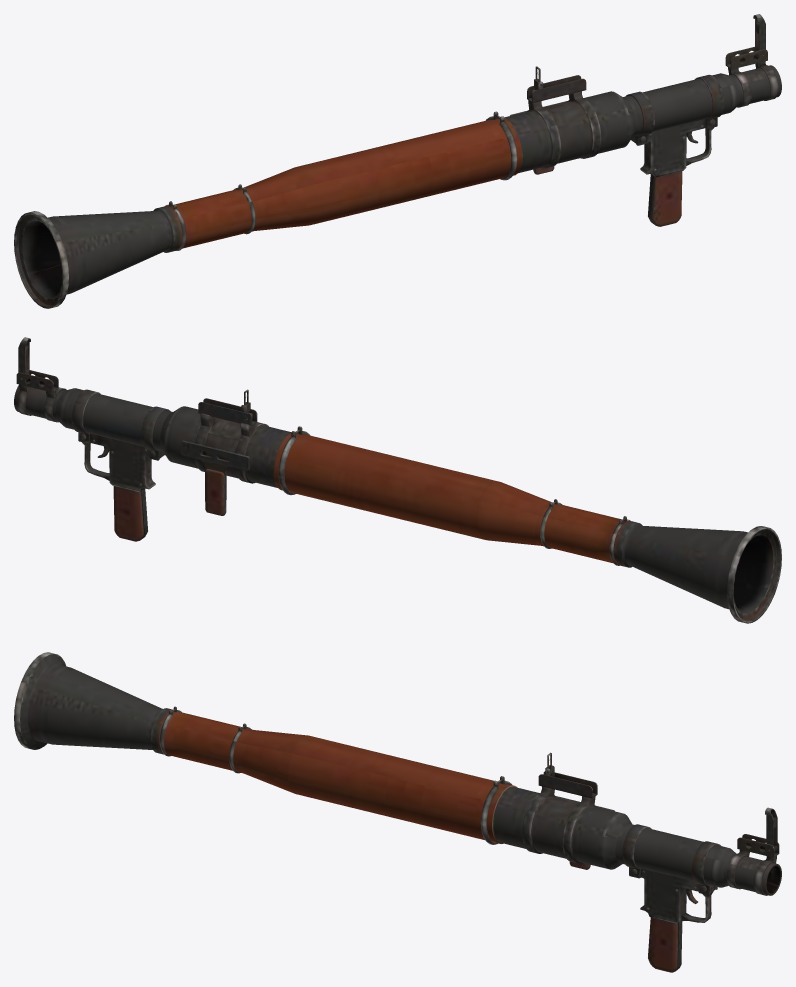
Rendered from rocketGun.glb.
3 views of the same model, one above another, from view 1: azimuth 30°, elevation 25°; view 2: azimuth 150°, elevation 25°; view 3: azimuth 330°, elevation 25° (orthographic).
Parts seen in each view (by area): view 1: RocketGun; view 2: RocketGun; view 3: RocketGun.
Part boxes in pixels (box(x1,y1,x2,y2)): RocketGun: box(14, 14, 781, 308); RocketGun: box(14, 337, 781, 623); RocketGun: box(14, 652, 781, 972).
Size of the model in its own units: 10 by 2.36 by 1.16.
1 material, 1 textured.
